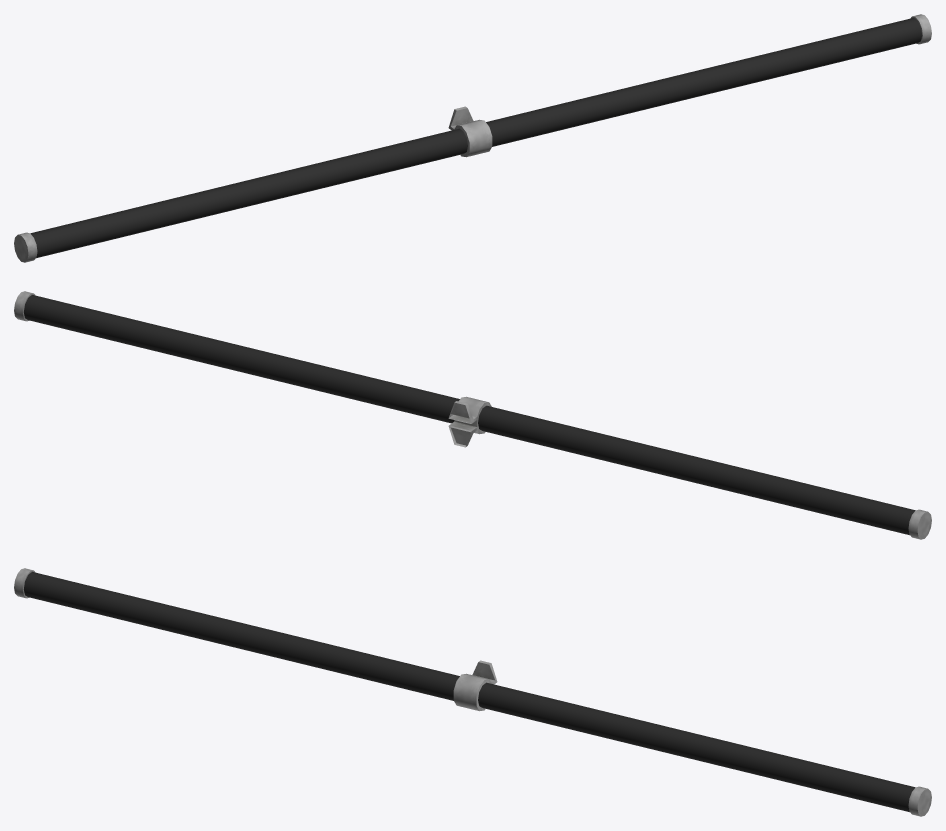
File: Rigid_Conduit_1X_200cm.fbx
3 views of the same model, one above another, from view 1: azimuth 30°, elevation 25°; view 2: azimuth 150°, elevation 25°; view 3: azimuth 330°, elevation 25° (orthographic).
Parts seen in each view (by area): view 1: Rigid_Conduit_1X_200cm; view 2: Rigid_Conduit_1X_200cm; view 3: Rigid_Conduit_1X_200cm.
Boxes of the visible parts, left/top/right/bottom form: Rigid_Conduit_1X_200cm: left=14, top=14, right=931, bottom=262; Rigid_Conduit_1X_200cm: left=14, top=291, right=931, bottom=539; Rigid_Conduit_1X_200cm: left=14, top=568, right=931, bottom=816.
Size of the model in its own units: 2 by 0.0894 by 0.0806.
